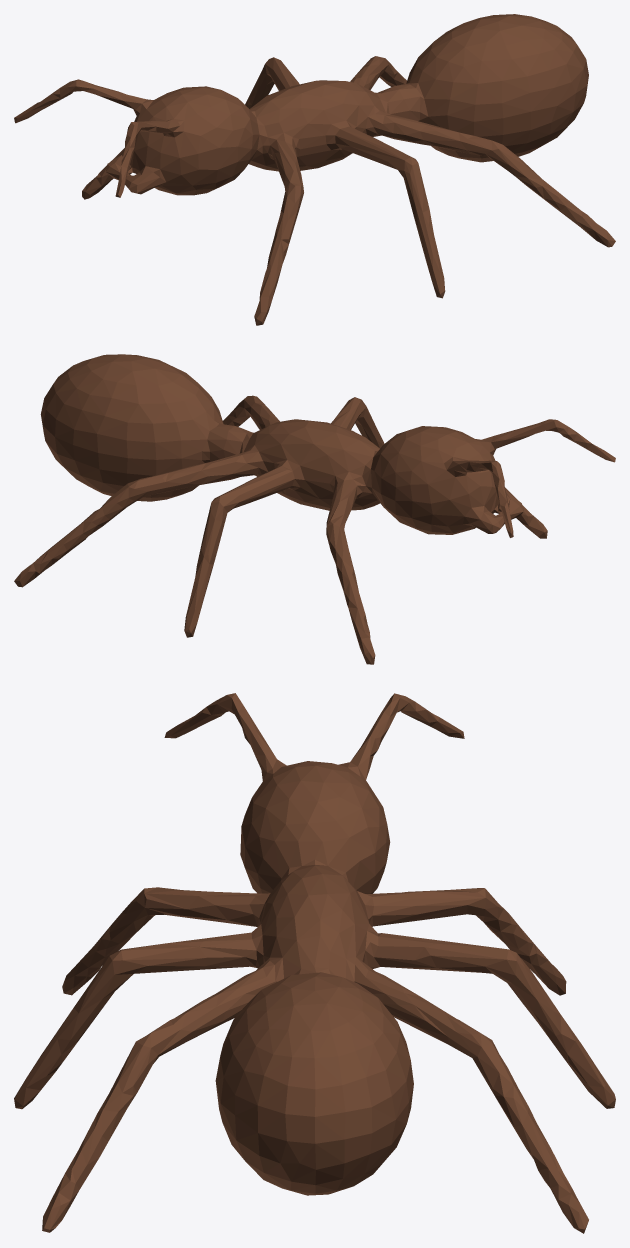
The model's file is NEW_RECOVERY_017_LOD1.glb.
3 renders of one model, top to bottom at view 1: azimuth 30°, elevation 25°; view 2: azimuth 150°, elevation 25°; view 3: azimuth 270°, elevation 25°, orthographic. The views are drawn at different scales.
Parts seen in each view (by area): view 1: Ant_solid; view 2: Ant_solid; view 3: Ant_solid.
Part boxes in pixels (box(x1,y1,x2,y2)): Ant_solid: box(14, 14, 615, 325); Ant_solid: box(14, 354, 615, 664); Ant_solid: box(14, 693, 615, 1233).
Bounding box in the file's own units: 5.37 × 1.76 × 3.79.
